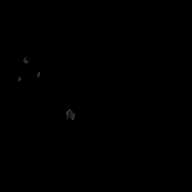v: (15, 55, 40, 82)
